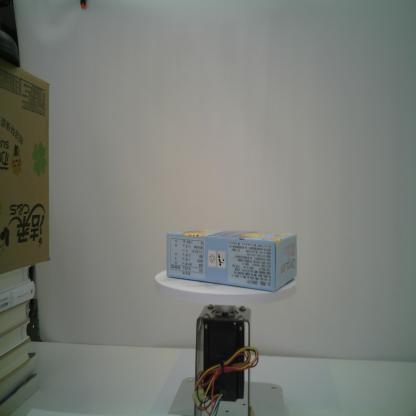Dessert: (166, 227, 298, 294)
